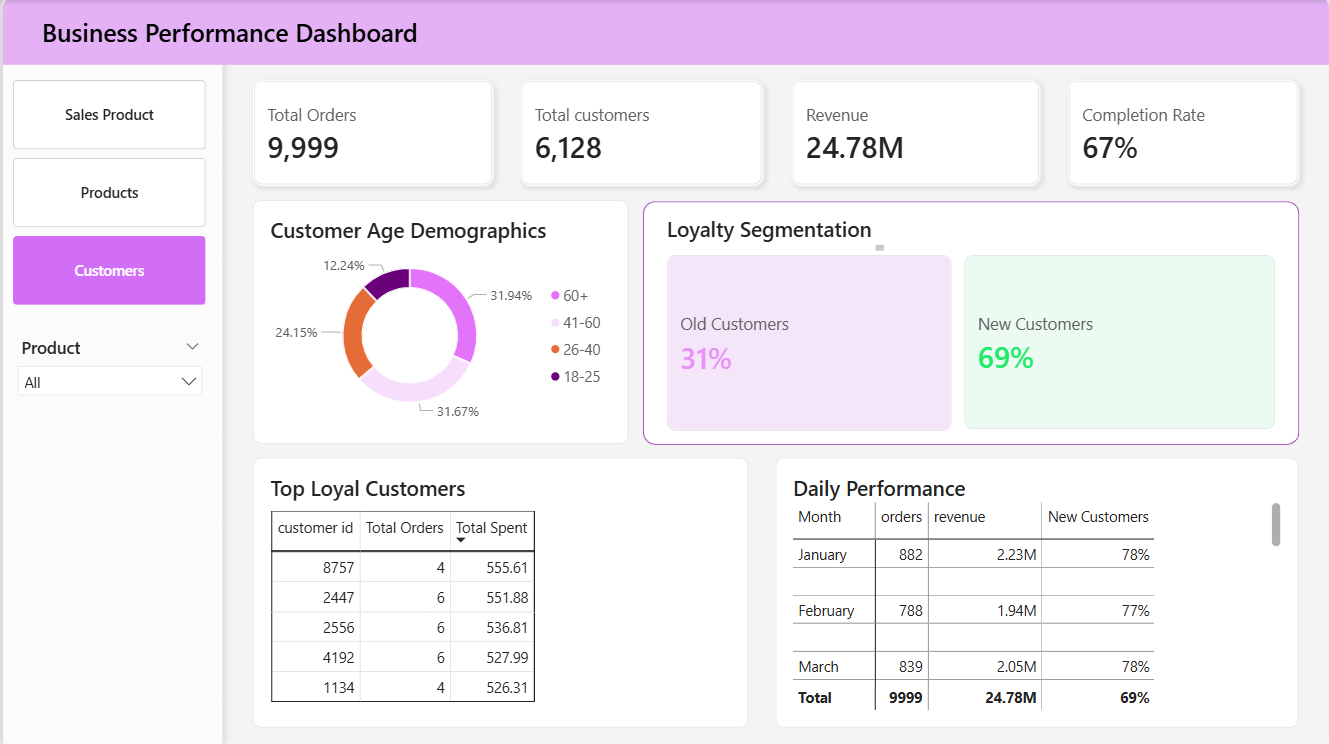

The dashboard page shown, as its layout file describes it:
{"tool":"powerbi","page":{"name":"Customers","canvas":[1280,720],"ordinal":2},"visuals":[{"type":"textbox","title":"Business Performance Dashboard ","box":[25.7,14.3,387.1,54.3],"z":0},{"type":"cardVisual","fields":{"Data":["CountNonNull(orders.order id)"]},"box":[241.1,77.8,232.2,102.2],"z":1000},{"type":"cardVisual","fields":{"Data":["Count(orders.customer id)"]},"box":[500,77.8,234.4,102.2],"z":2000},{"type":"cardVisual","fields":{"Data":["*Measure table.M_revenue"]},"box":[761.1,77.8,240,102.2],"z":3000},{"type":"cardVisual","fields":{"Data":["*Measure table.M_Completion Rate"]},"box":[1027.8,77.8,223.3,102.2],"z":4000},{"type":"donutChart","title":"Customer Age Demographics","fields":{"Category":["customer.Age Group"],"Y":["CountNonNull(customer.age)"]},"box":[240.9,193.3,362.1,235.2],"z":5000},{"type":"pivotTable","title":"Daily Performance","fields":{"Rows":["orders.order date.Variation.Date Hierarchy.Year","orders.order date.Variation.Date Hierarchy.Month"],"Values":["CountNonNull(orders.order id)","*Measure table.M_revenue","*Measure table.New Customers"]},"box":[745.9,441.5,505,261.1],"z":6000},{"type":"pageNavigator","box":[9.7,77.2,187,217.2],"z":7000},{"type":"group","id":"g1","title":"Group 1","box":[617.5,194.8,633.4,235.2],"z":8000},{"type":"shape","box":[617.5,194.8,633.4,235.2],"z":9000,"group":"g1"},{"type":"tableEx","title":"Top Loyal Customers","fields":{"Values":["orders.customer id","*Measure table.M_Total Orders by Customer","*Measure table.M_Total Spent"]},"box":[240.8,441.7,477.5,260.8],"z":9000},{"type":"textbox","title":"Loyalty Segmentation","box":[640.6,207.8,209.2,34.6],"z":10000,"group":"g1"},{"type":"cardVisual","title":"Old Customers","fields":{"Data":["*Measure table.M_Old Customers"]},"box":[640.6,246.3,275,170],"z":11000,"group":"g1"},{"type":"cardVisual","fields":{"Data":["*Measure table.New Customers"]},"box":[928.1,246.3,300,168.8],"z":12000,"group":"g1"}]}

Visuals, with their boxes in screenshot pixels (x1, y1, x2, y2), scaled from the page's 1280x720 canvas onto the 1329x744 screenshot:
"Business Performance Dashboard " textbox: BBox(27, 15, 429, 71)
cardVisual - CountNonNull(orders.order id): BBox(250, 80, 491, 186)
cardVisual - Count(orders.customer id): BBox(519, 80, 763, 186)
cardVisual - *Measure table.M_revenue: BBox(790, 80, 1039, 186)
cardVisual - *Measure table.M_Completion Rate: BBox(1067, 80, 1299, 186)
"Customer Age Demographics" donutChart: BBox(250, 200, 626, 443)
"Daily Performance" pivotTable: BBox(774, 456, 1299, 726)
pageNavigator: BBox(10, 80, 204, 304)
"Group 1" group: BBox(641, 201, 1299, 444)
shape: BBox(641, 201, 1299, 444)
"Top Loyal Customers" tableEx: BBox(250, 456, 746, 726)
"Loyalty Segmentation" textbox: BBox(665, 215, 882, 250)
"Old Customers" cardVisual: BBox(665, 255, 951, 430)
cardVisual - *Measure table.New Customers: BBox(964, 255, 1275, 429)
